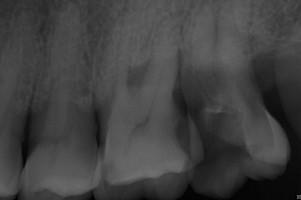Endo-Periodontal Lesion: (126, 61, 149, 87)
